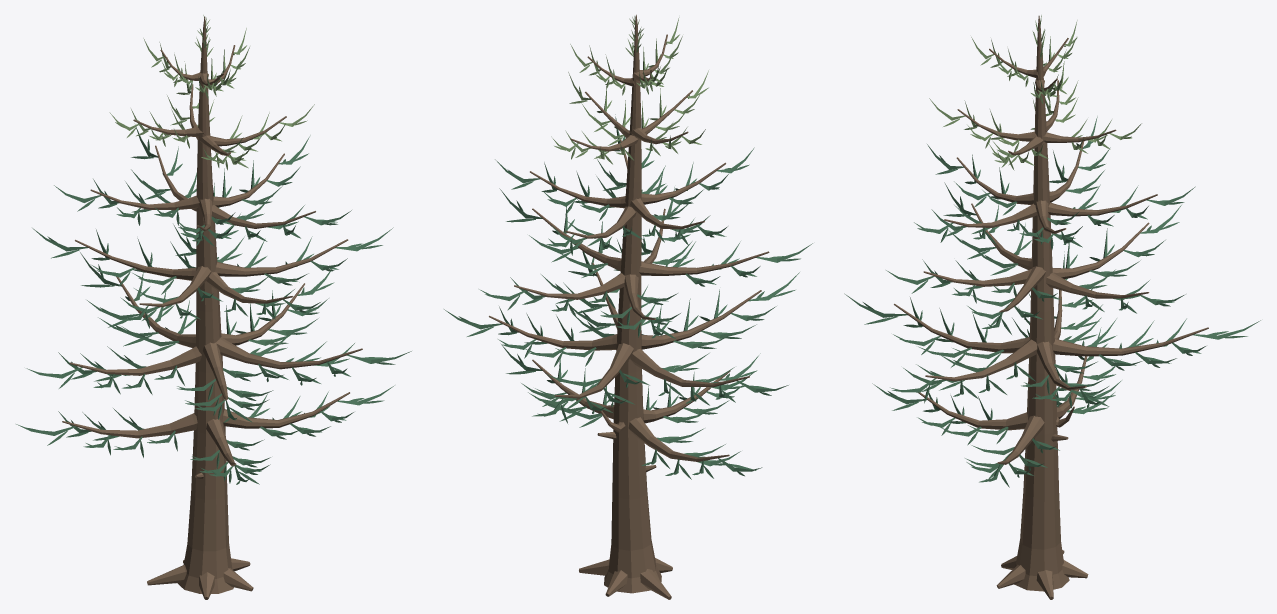
Rendered from conifer-tree.glb.
The picture shows the model from 3 angles, left to right: view 1: azimuth 30°, elevation 25°; view 2: azimuth 150°, elevation 25°; view 3: azimuth 270°, elevation 25°; orthographic projection.
Visible parts, largest first — view 1: Conifer | editable woody axis boughs and collars, Conifer | clustered narrow needle-bearing shoots; view 2: Conifer | editable woody axis boughs and collars, Conifer | clustered narrow needle-bearing shoots; view 3: Conifer | editable woody axis boughs and collars, Conifer | clustered narrow needle-bearing shoots.
Boxes of the visible parts, left/top/right/bottom form: Conifer | editable woody axis boughs and collars: left=62, top=16, right=362, bottom=599; Conifer | clustered narrow needle-bearing shoots: left=16, top=15, right=411, bottom=484; Conifer | editable woody axis boughs and collars: left=489, top=14, right=769, bottom=599; Conifer | clustered narrow needle-bearing shoots: left=444, top=16, right=812, bottom=479; Conifer | editable woody axis boughs and collars: left=894, top=15, right=1208, bottom=599; Conifer | clustered narrow needle-bearing shoots: left=844, top=15, right=1260, bottom=487.
Size of the model in its own units: 4.3 by 7.06 by 4.77.
